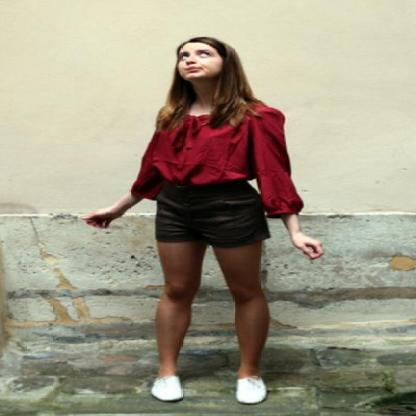shirt: (137, 91, 303, 224)
shoe: (152, 376, 265, 401)
shorts: (152, 179, 281, 248)
